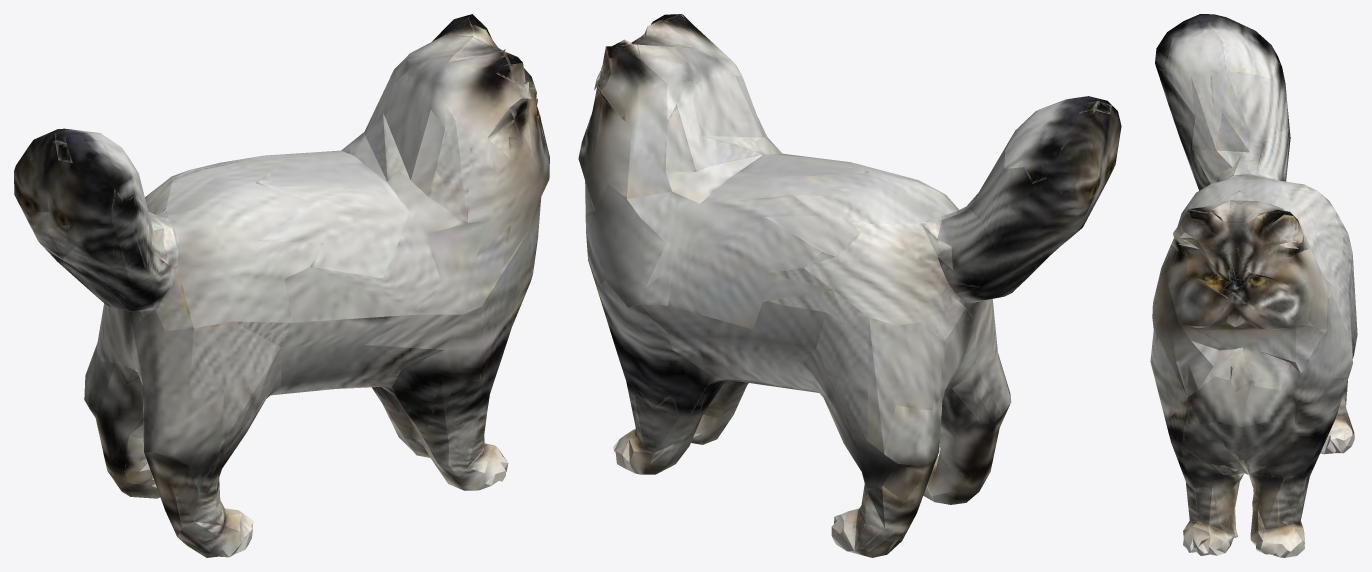
Rendered from COLMEOW2-lo.glb.
3 renders of one model, left to right at view 1: azimuth 30°, elevation 25°; view 2: azimuth 150°, elevation 25°; view 3: azimuth 270°, elevation 25°, orthographic. The views are drawn at different scales.
Visible parts, largest first — view 1: output_unwrapped; view 2: output_unwrapped; view 3: output_unwrapped.
Part boxes in pixels (x1,y1,x2,y2): output_unwrapped: (14,14,549,557); output_unwrapped: (578,14,1121,557); output_unwrapped: (1150,14,1357,557).
Bounding box in the file's own units: 1.21 × 1 × 0.5082.
Materials: 1 (1 with a texture image).
